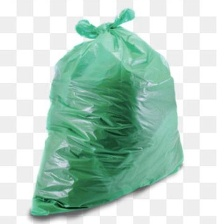plastic_bag: (18, 7, 191, 221)
